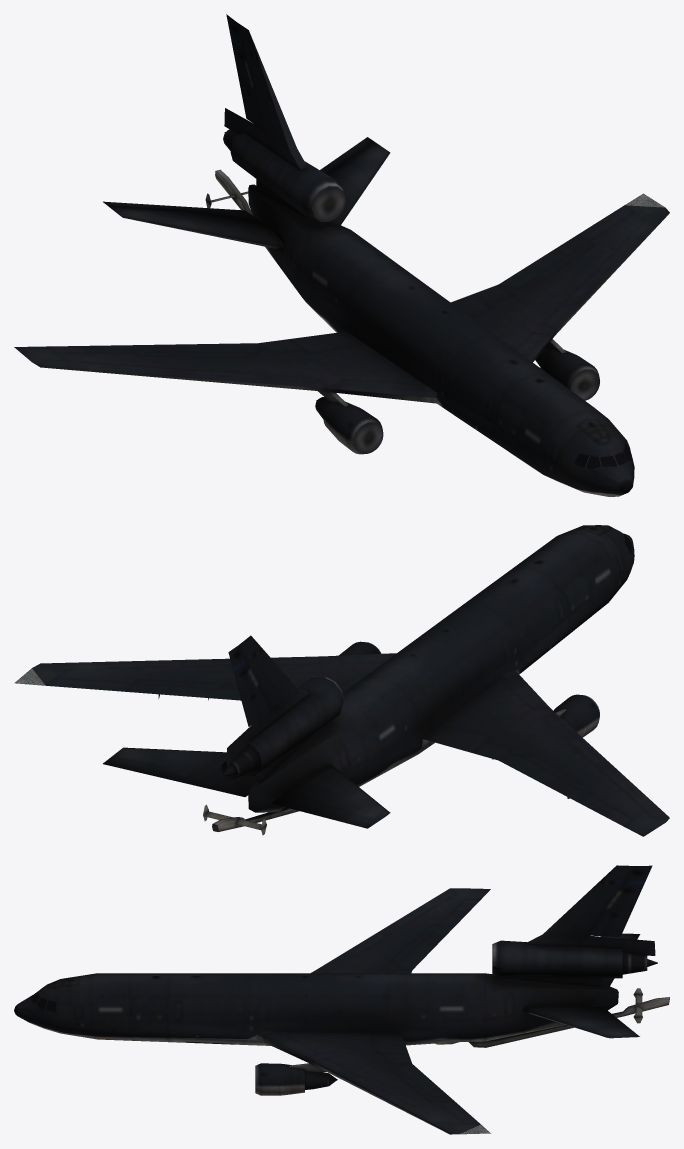
The model's file is KC10_Extender2.obj.
3 views of the same model, one above another, from view 1: azimuth 30°, elevation 25°; view 2: azimuth 150°, elevation 25°; view 3: azimuth 270°, elevation 25° (orthographic). The views are drawn at different scales.
Visible parts, largest first — view 1: LOD0; view 2: LOD0; view 3: LOD0.
Part boxes in pixels (<box>): LOD0: <box>14,14,669,496</box>; LOD0: <box>14,525,669,836</box>; LOD0: <box>14,865,669,1134</box>.
Size of the model in its own units: 31.41 by 11.09 by 35.38.
Materials: 1 (1 with a texture image).
